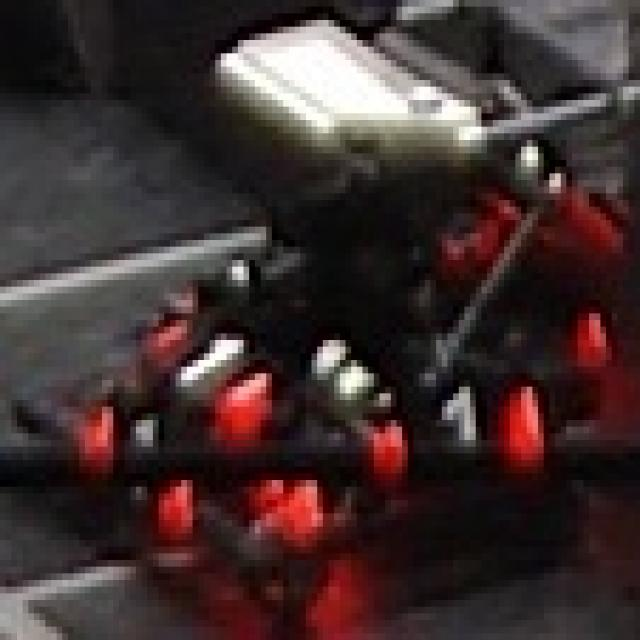R1: (74, 386, 187, 546), (363, 387, 538, 480), (142, 307, 283, 420)
